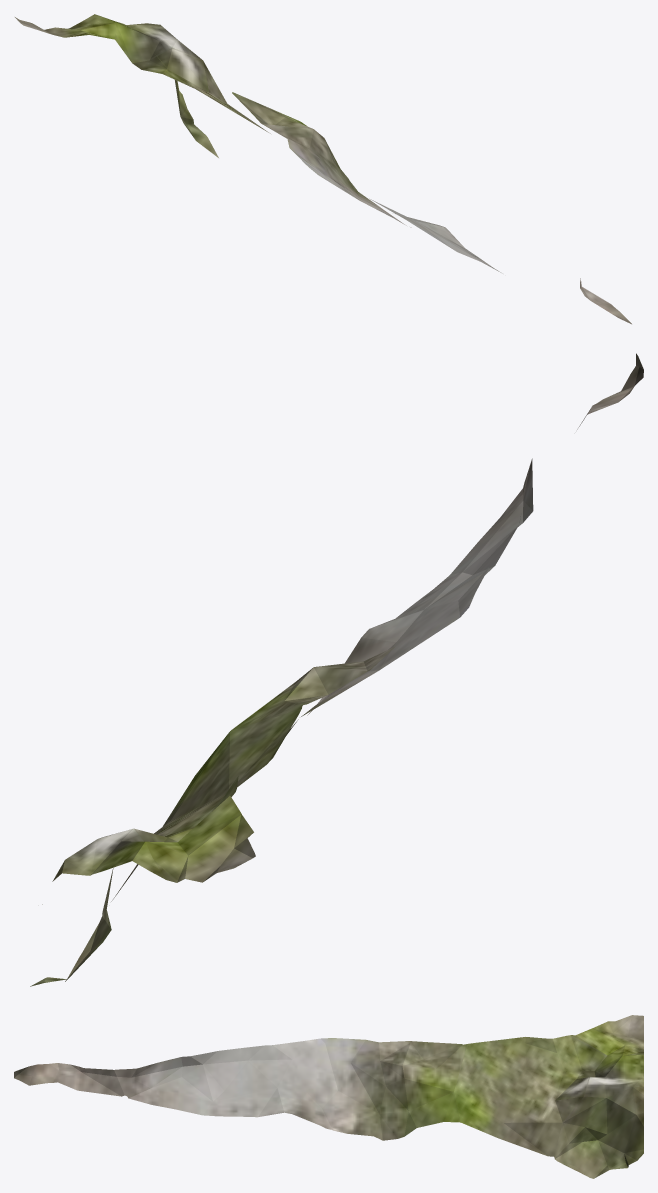
3 views of the same model, one above another, from view 1: azimuth 30°, elevation 25°; view 2: azimuth 150°, elevation 25°; view 3: azimuth 270°, elevation 25° (orthographic). The views are drawn at different scales.
Size of the model in its own units: 1.23 by 1.08 by 5.76.
1 material, 1 textured.
